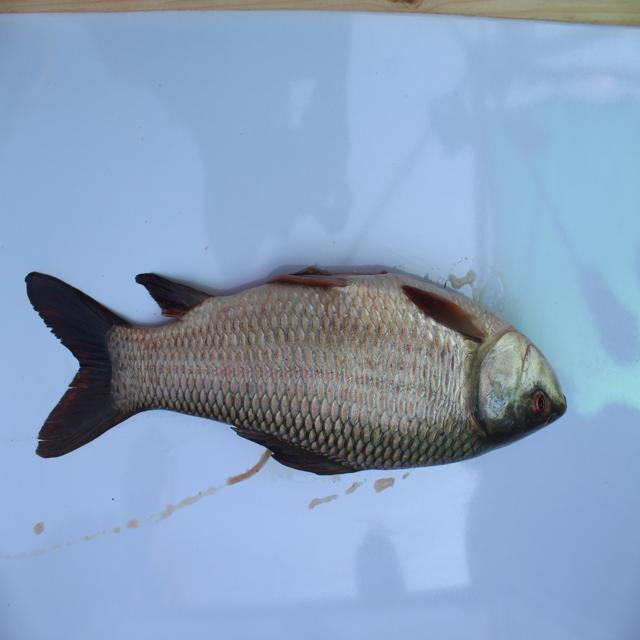Rohu: (16, 251, 587, 481)
